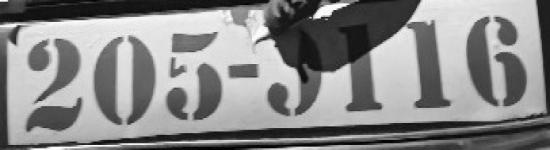-: (226, 59, 261, 83)
0: (91, 30, 158, 130)
1: (398, 16, 460, 114), (335, 18, 385, 114)
2: (23, 31, 84, 133)
5: (164, 27, 222, 127)
6: (463, 12, 531, 112)
